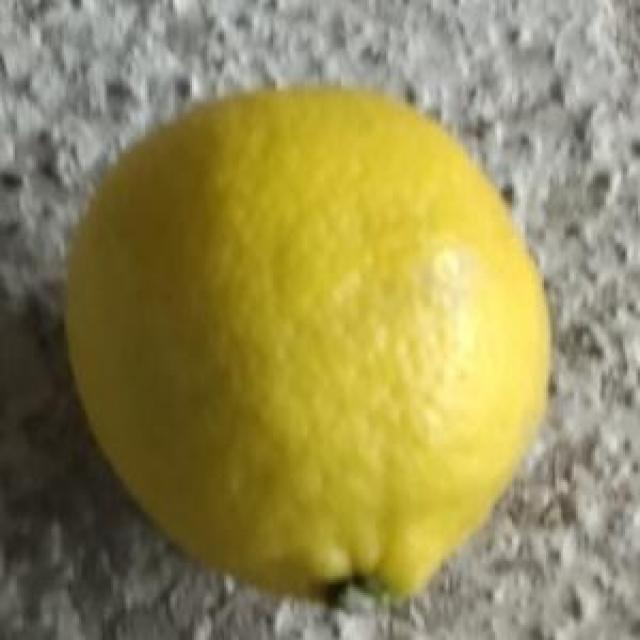lemon: (62, 79, 552, 600)
